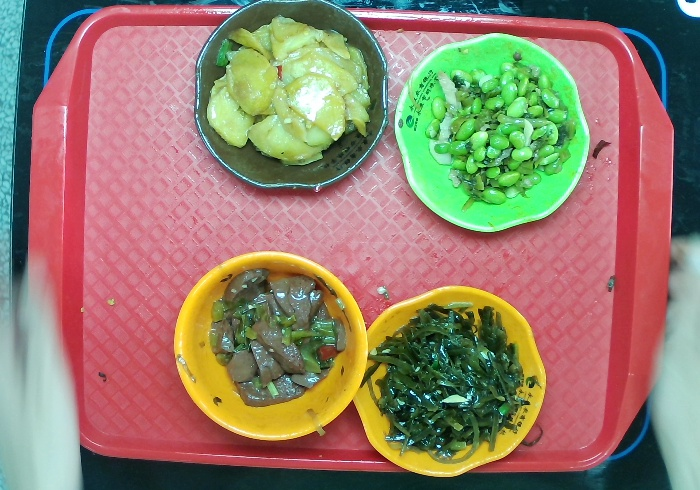YKMZ-Ju_Se_Ao_Bian_Wan: (353, 277, 553, 480)
YKMZ-Ju_Se_Yuan_Wan: (173, 249, 367, 443)
YKMZ-Ka_Fei_Ao_Bian_Wan: (190, 1, 390, 192)
YKMZ-Lv_Se_Ao_Bian_Wan: (393, 26, 590, 232)
